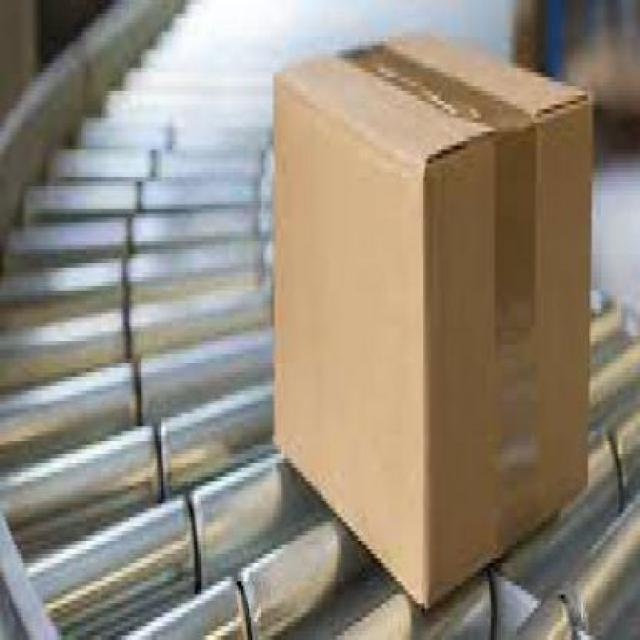box: (267, 13, 604, 609)
